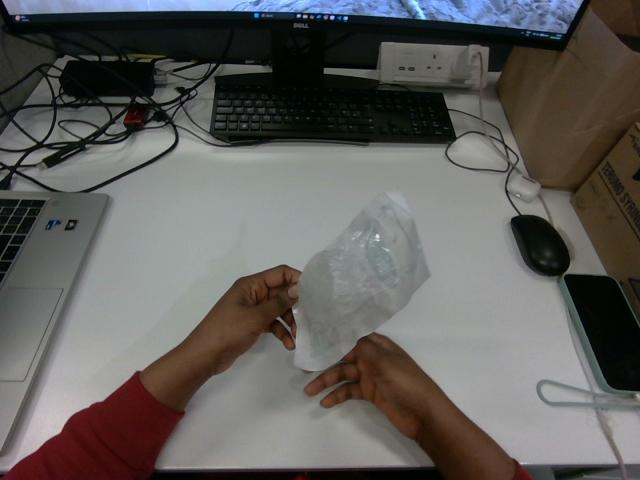gallipot: (294, 191, 428, 370)
